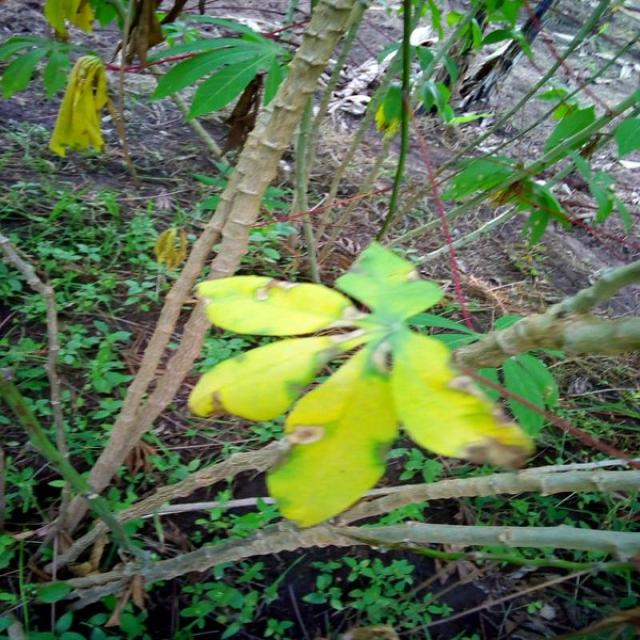cassava leaf: (186, 239, 540, 529)
